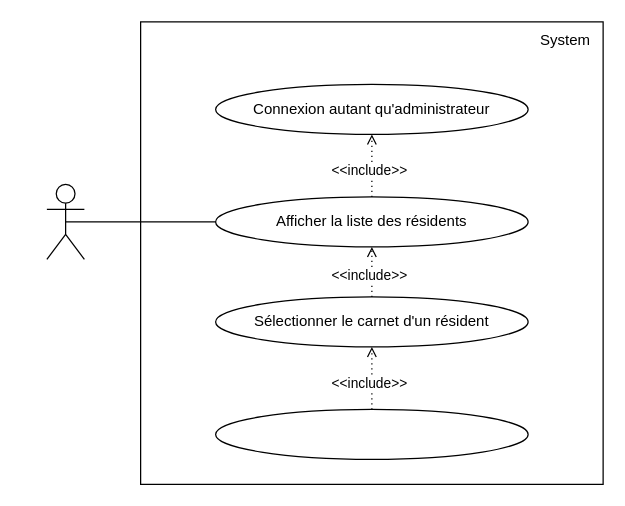
Some shapes in this 625 by 506 pixel diagram are drawn without their labels. The box of each missing label's shape, as (x1, y1, x2, y2) in pixels:
Cliquer sur "Supprimer le carnet": (214, 408, 528, 459)
Responsable: (46, 183, 84, 259)
